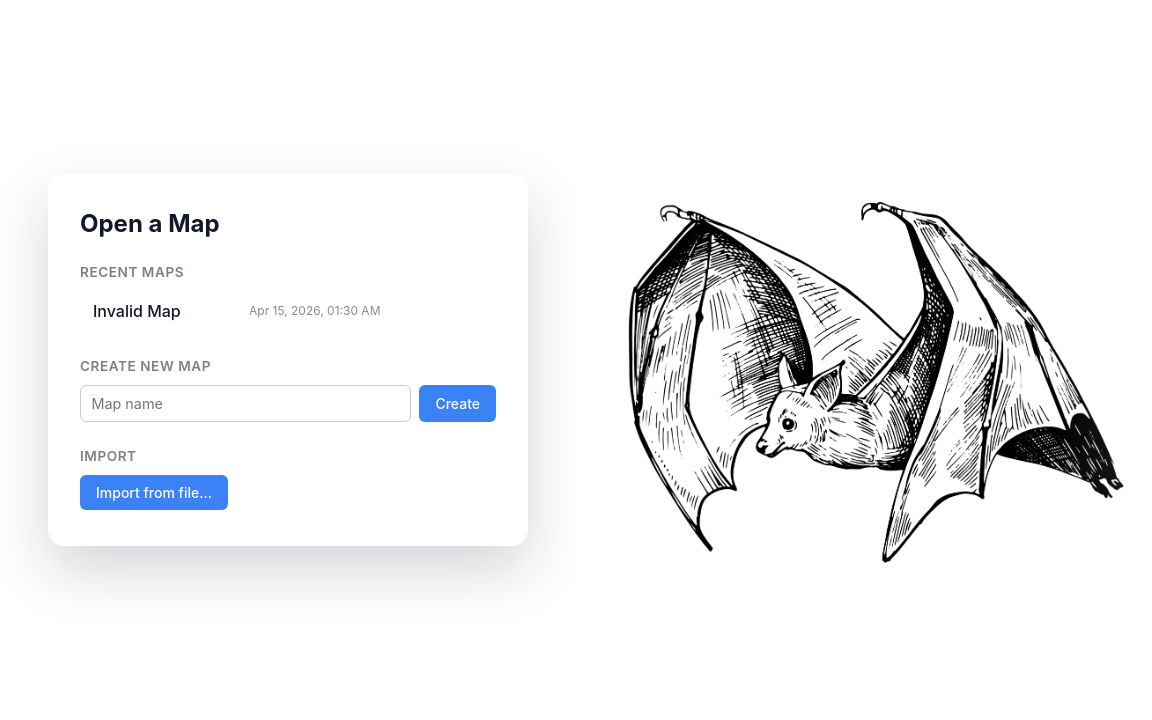
it: MapSelectionDialog › shows an error when a saved map is invalid
Click the text "Invalid Map".
click(137, 311)  # box [93,299,181,323]
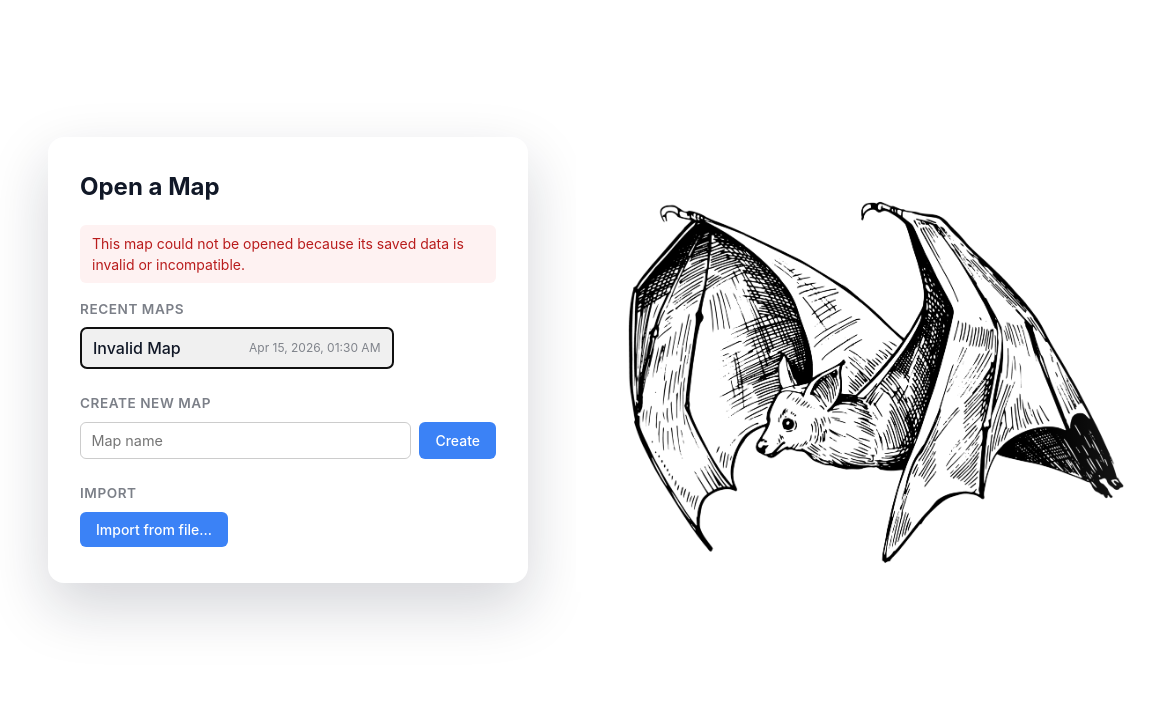
Now the message reads "This map could not be opened because its saved data is invalid or incompatible.", box [92,235,464,273]
